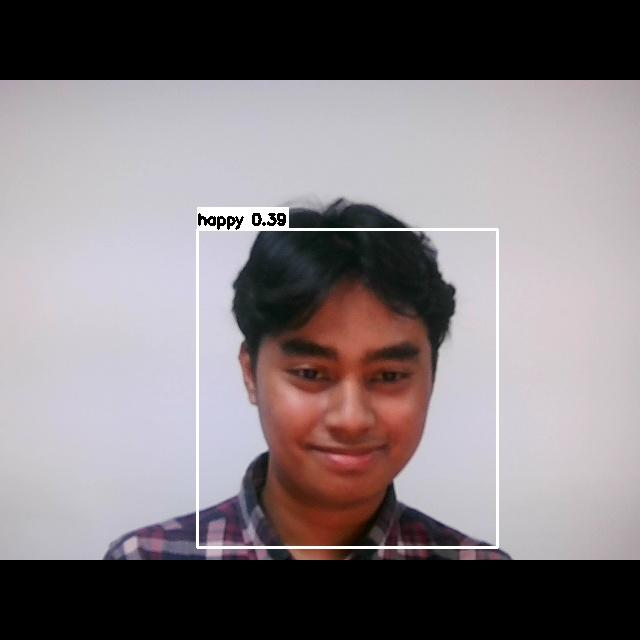Happy: (273, 328, 426, 491)
